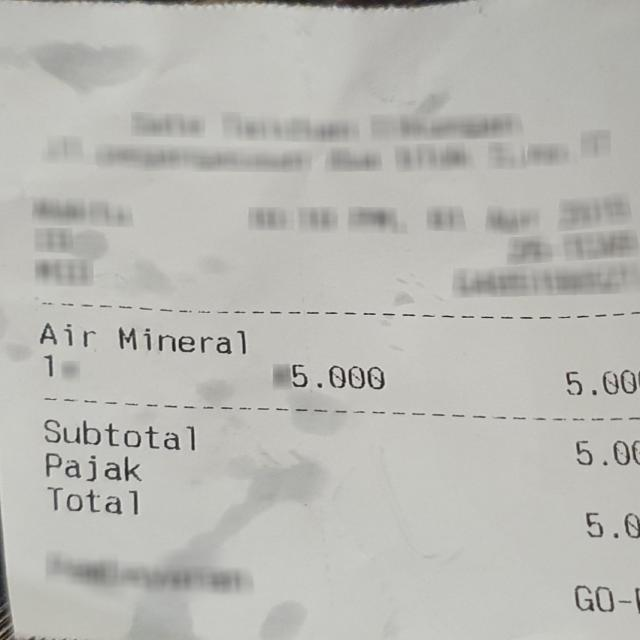text: (39, 417, 196, 450), (116, 324, 246, 353), (272, 362, 385, 388), (42, 453, 142, 482), (44, 486, 140, 514), (563, 366, 639, 397), (572, 508, 640, 542), (572, 585, 640, 611), (575, 440, 638, 465), (38, 322, 96, 346), (39, 354, 58, 377)
